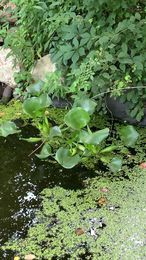water_hyacinth: (0, 94, 138, 177)
